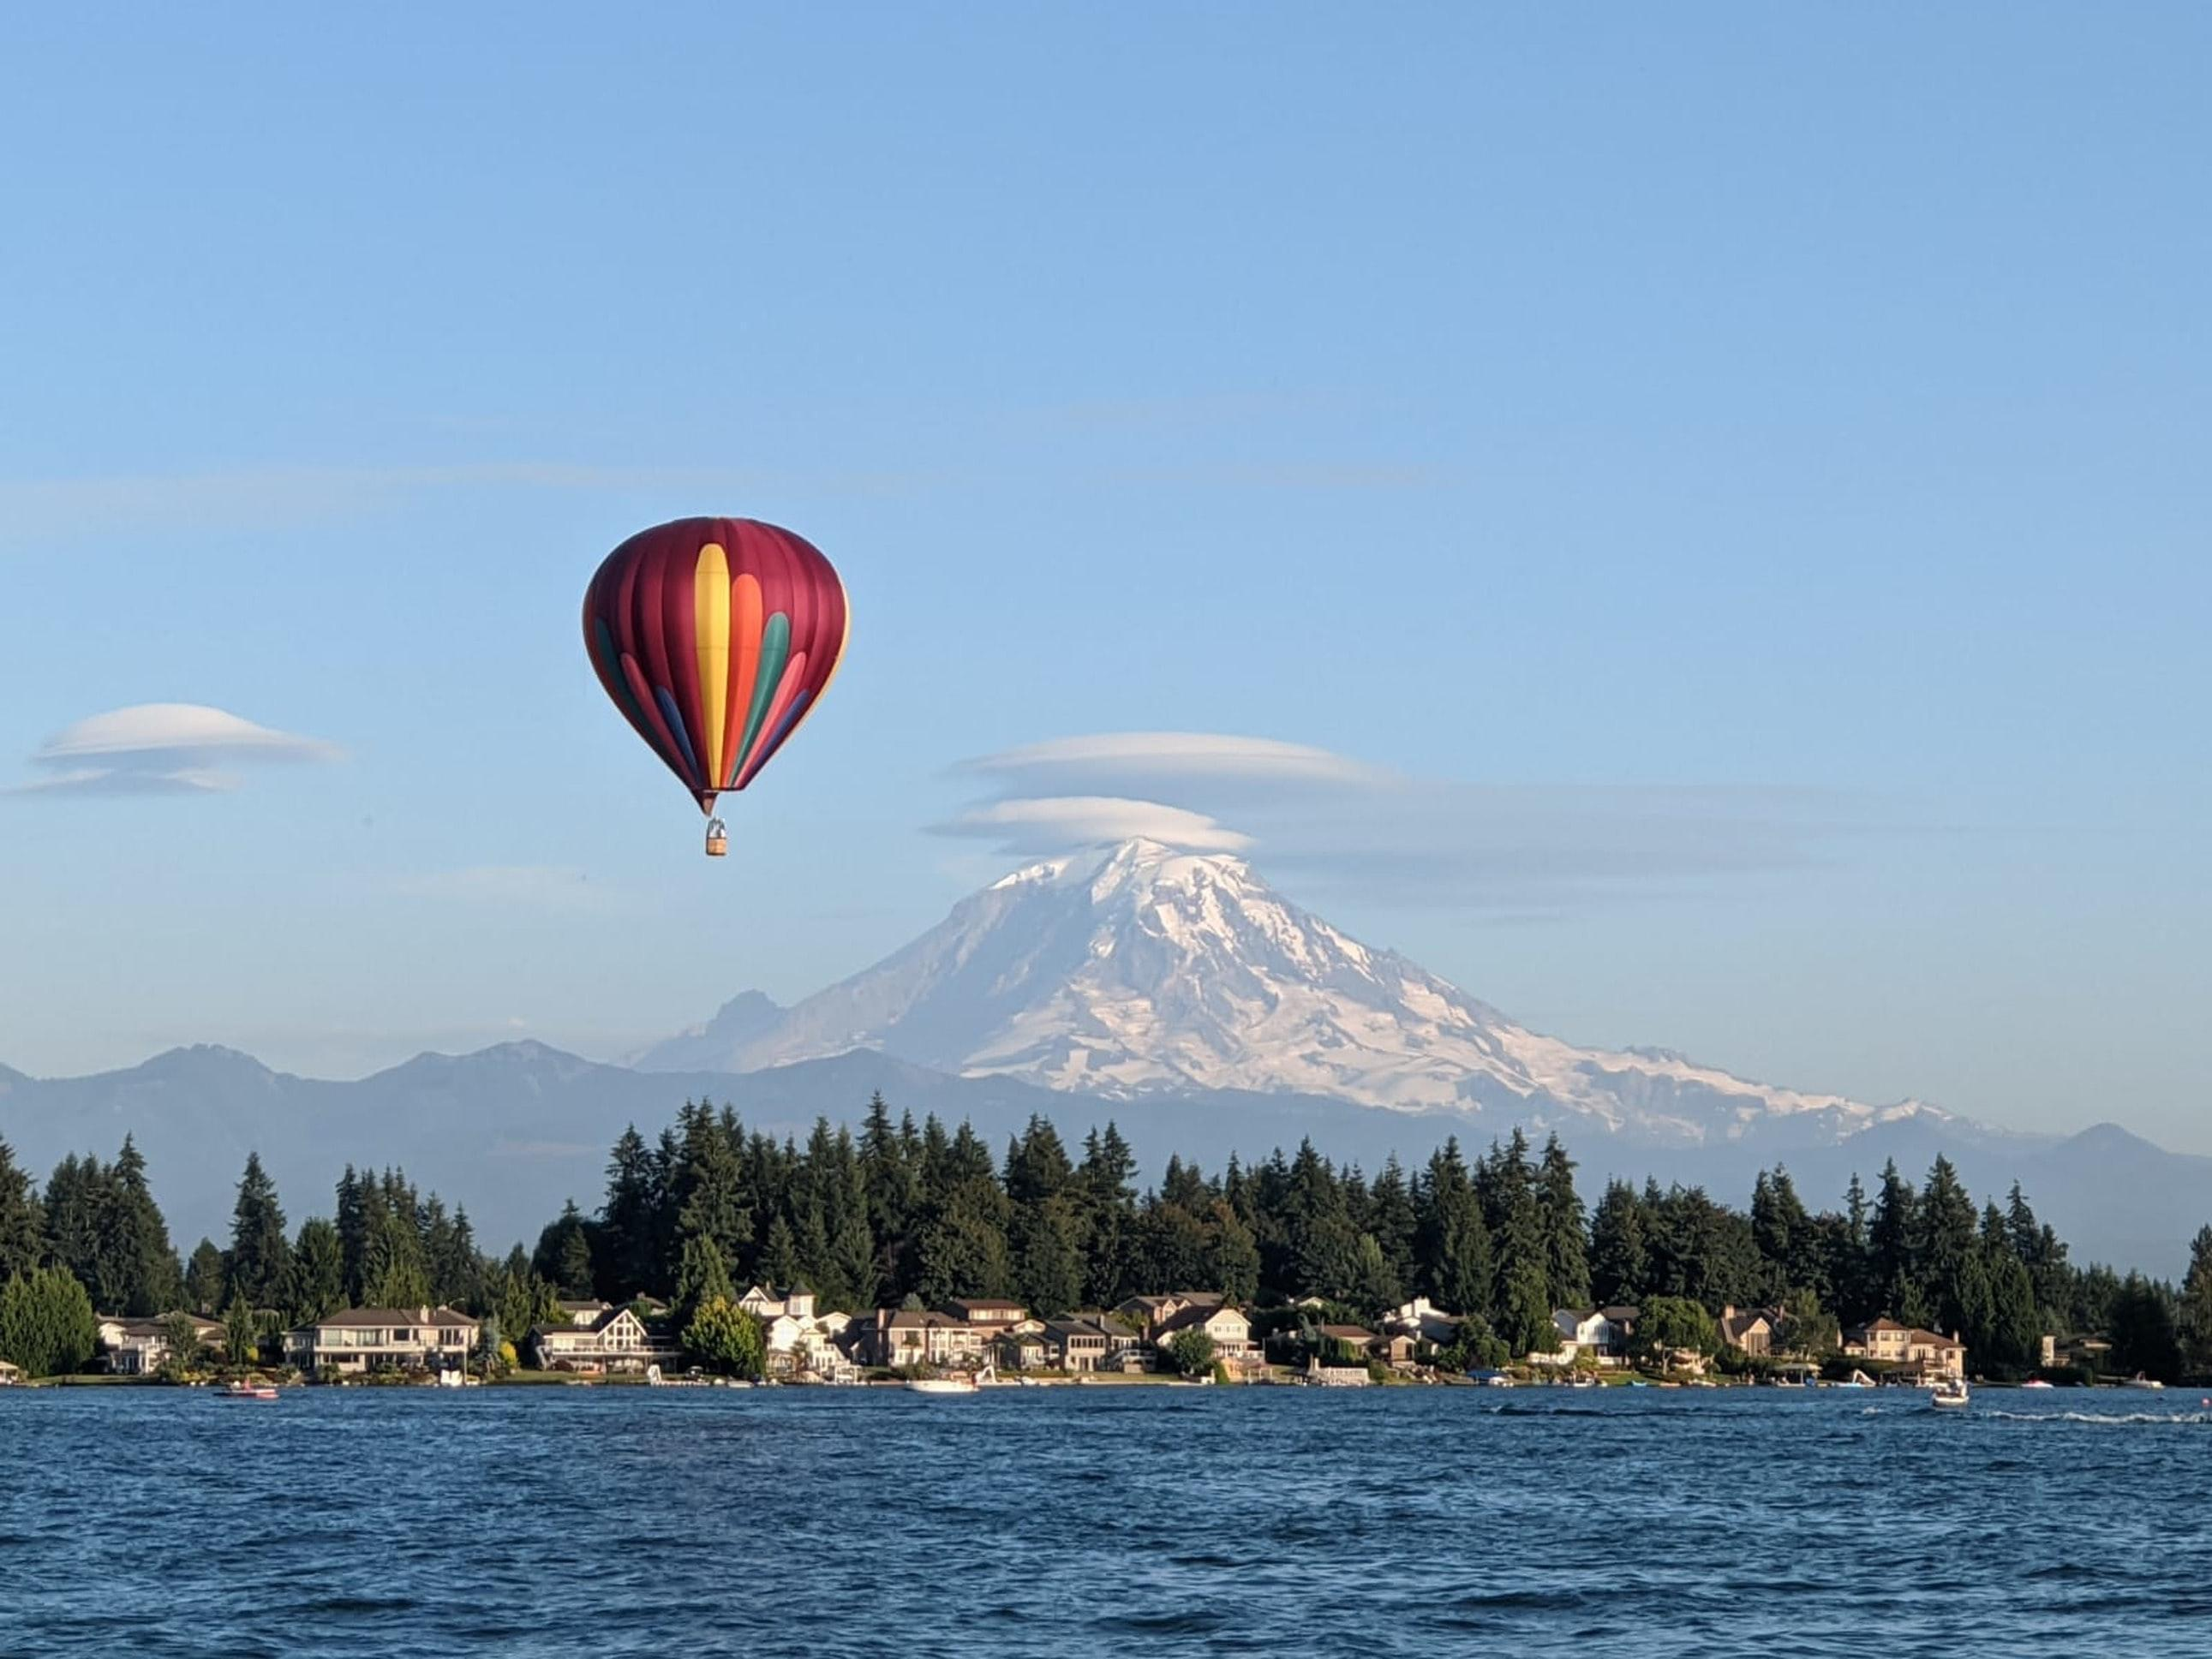hot air ballon: (582, 518, 849, 856)
